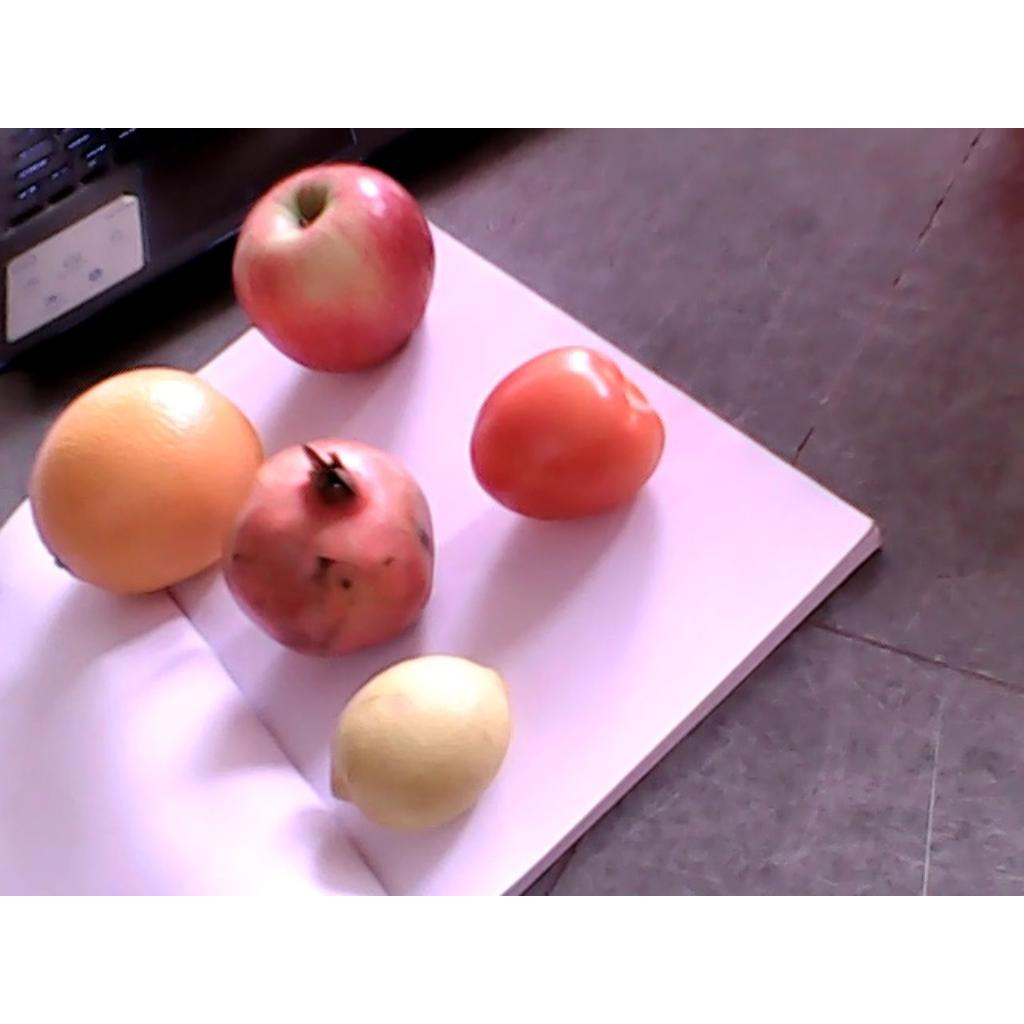apple: (230, 163, 432, 372)
lemon: (332, 657, 514, 832)
orange: (33, 367, 260, 589)
pomegranate: (221, 439, 439, 657)
tomato: (469, 348, 663, 521)
